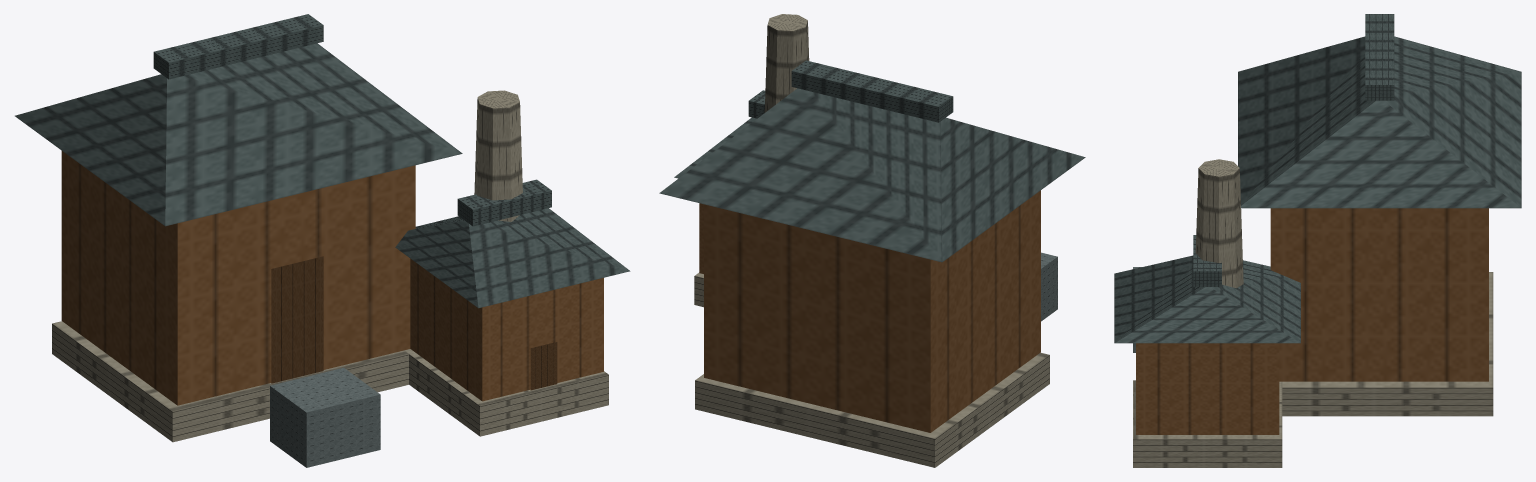
The model's file is domestic-SMITH-2-lod2.glb.
3 renders of one model, left to right at view 1: azimuth 30°, elevation 25°; view 2: azimuth 150°, elevation 25°; view 3: azimuth 270°, elevation 25°, orthographic. The views are drawn at different scales.
Bounding box in the file's own units: 0.755 × 0.604 × 0.7095.
1 material, 1 textured.
